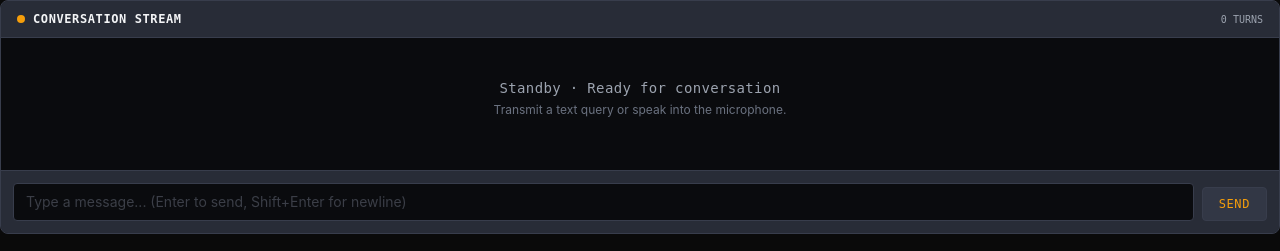
Test case: ConversationFeed Component Suite › submits text and invokes sendText when form is submitted with non-empty input
Type "Hello Nyx" into the text box labelled "Type a message... (Enter to send, Shift+Enter for newline)" at (603, 202), box [13, 183, 1194, 221]
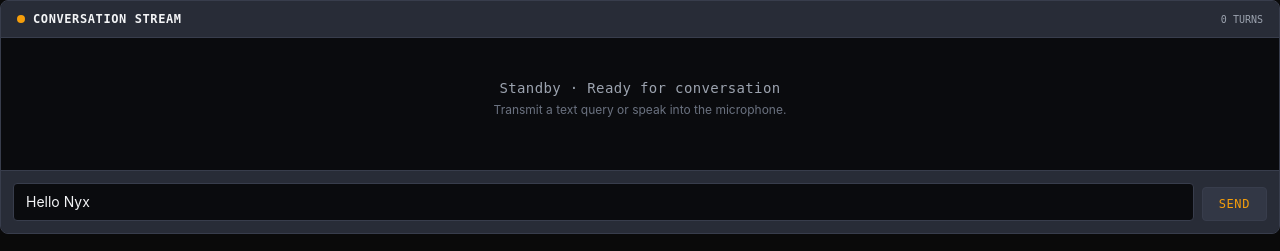
Click the button "Send" at (1234, 204), box [1202, 187, 1267, 221]
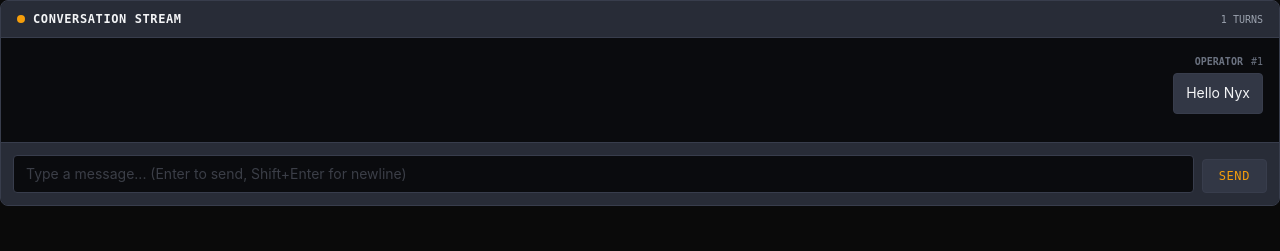
Expected: the text box labelled "Type a message... (Enter to send, Shift+Enter for newline)" is empty, [13, 155, 1194, 193]
